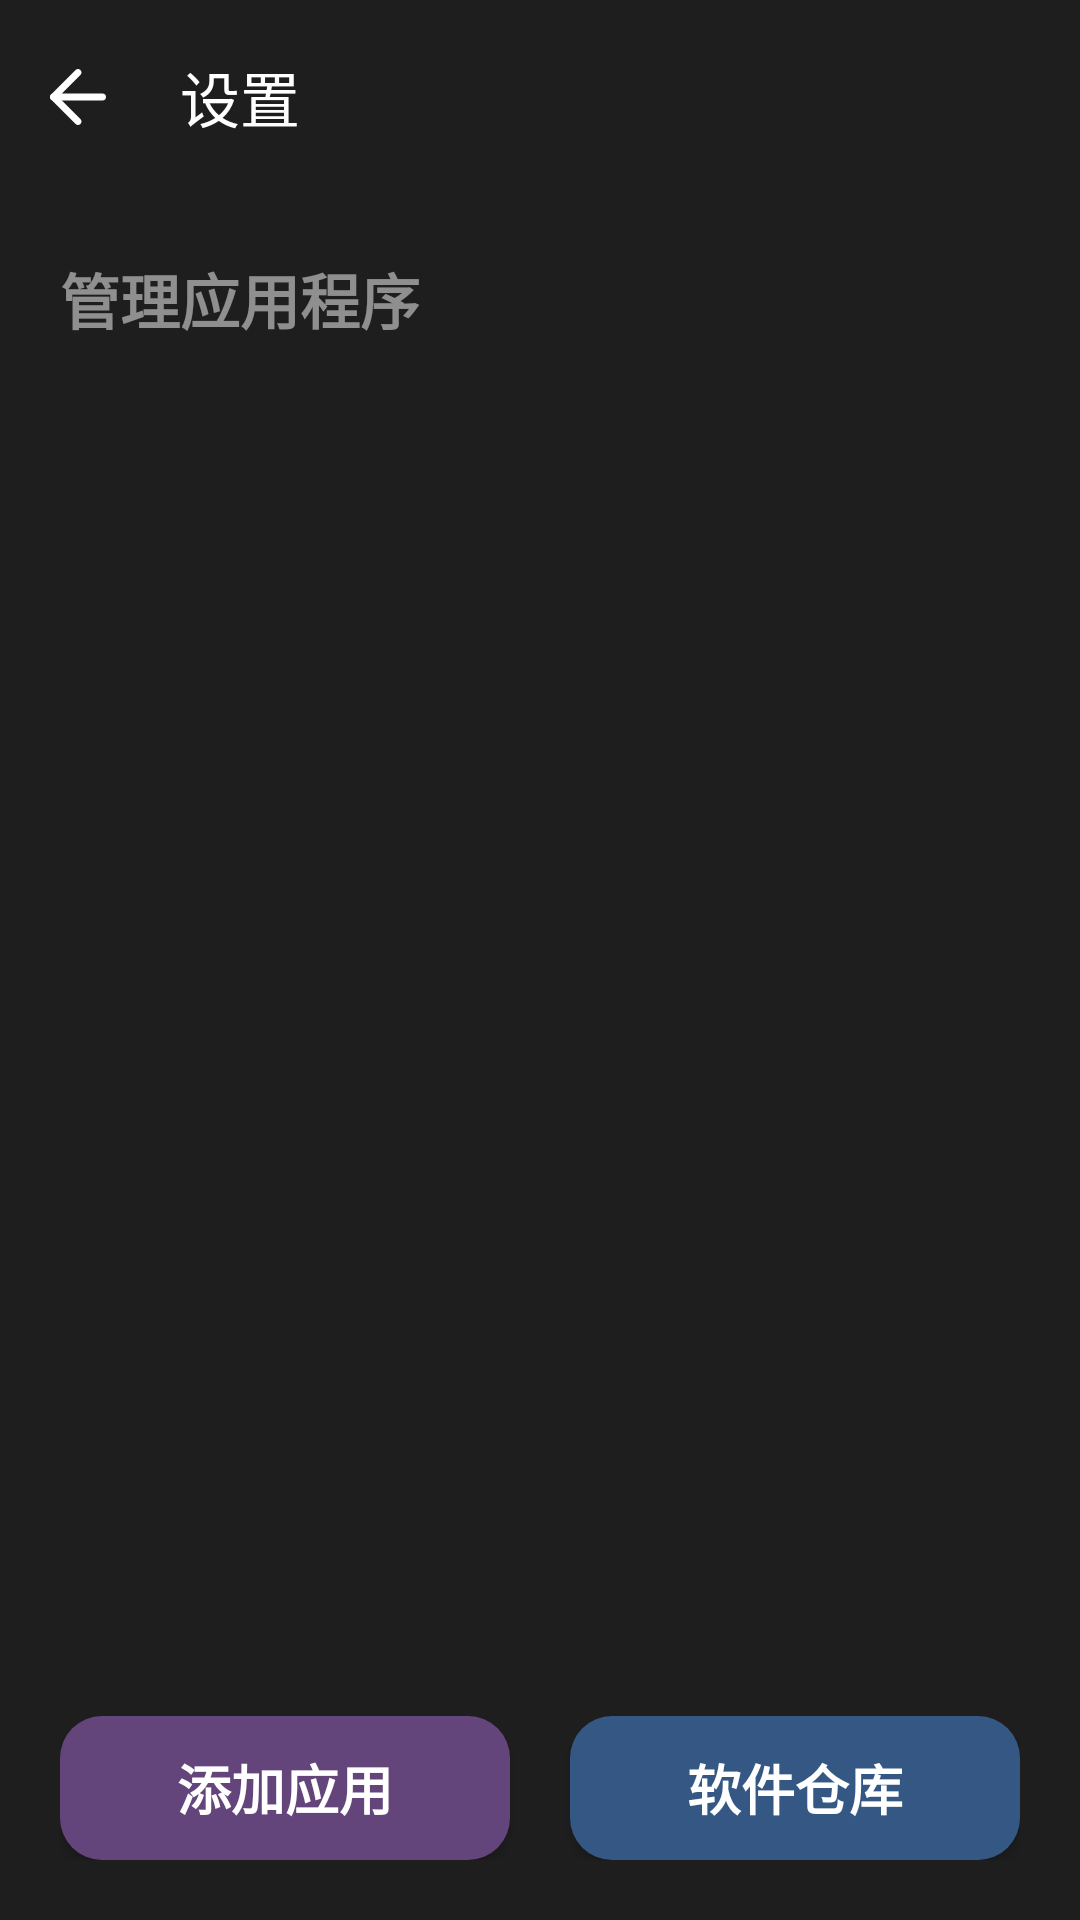

Icon bounding boxes for this 1080 x 1920 phone screenshot, format (x1, y1, x2, y2):
返回: (50, 69, 106, 125)
